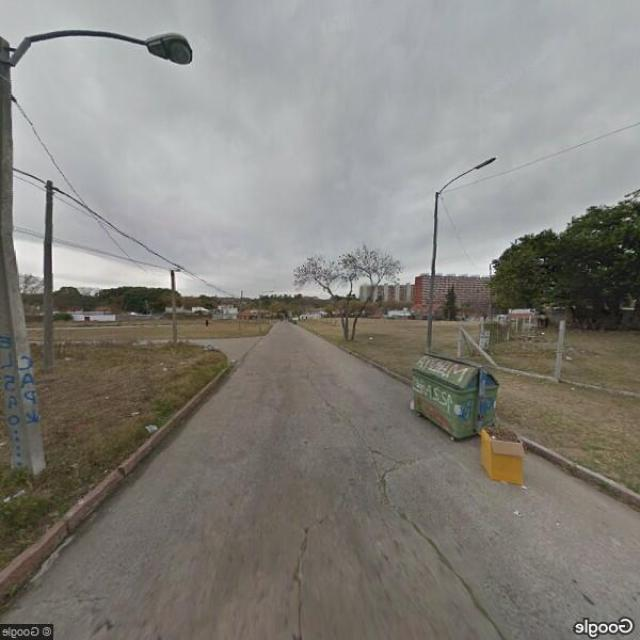garbage container: (393, 338, 515, 446)
